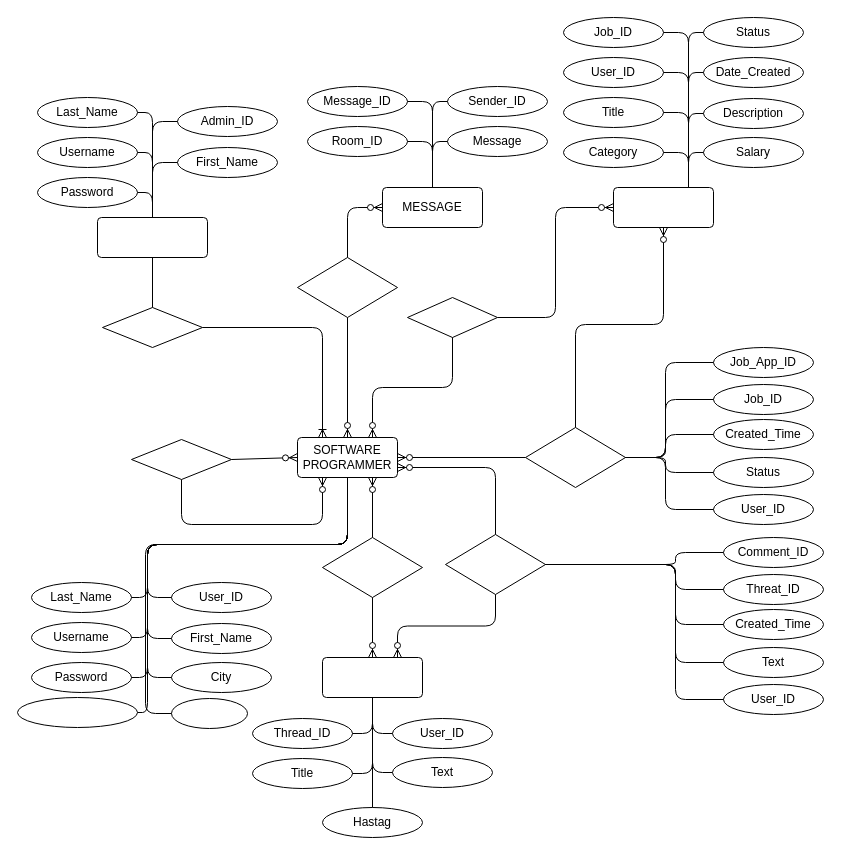
The diagram is 841 pixels wide and 855 high, and some of its shapes have lost their labels. The centre of each missing label's shape, as x and y in pixels:
ADMINISTRATOR: the point at 152,237
Apply Jobs: the point at 575,457
Company_Name: the point at 77,712
Country: the point at 209,713
Creates: the point at 152,327
Creates Messages: the point at 347,287
Creates Thread: the point at 372,567
JOB VACANCY: the point at 663,207
Manages: the point at 181,459
Post Comment: the point at 495,564
Post Jobs: the point at 452,317
THREAD: the point at 372,677
